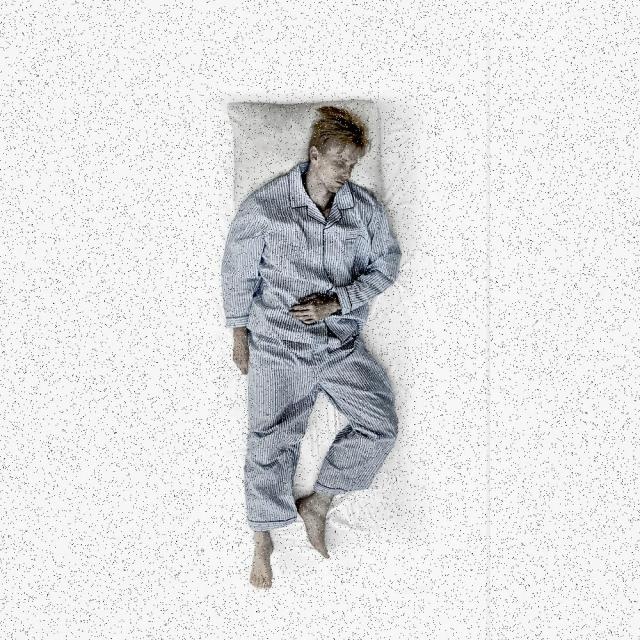Supine: (222, 106, 400, 588)
